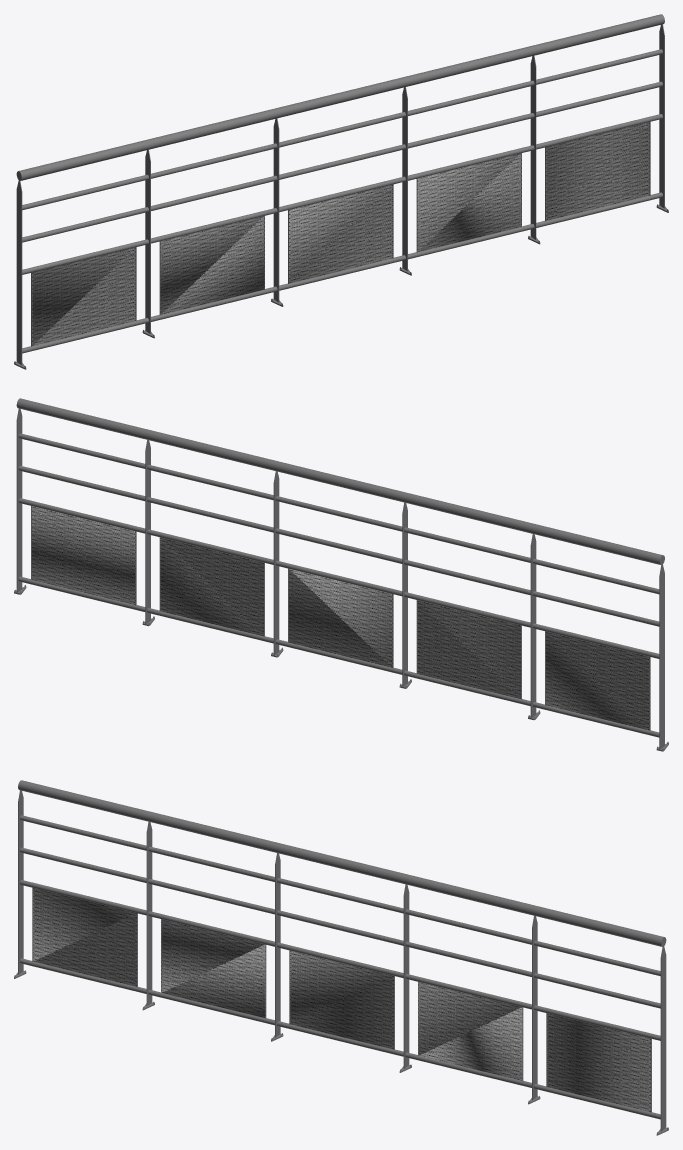
3 renders of one model, top to bottom at view 1: azimuth 30°, elevation 25°; view 2: azimuth 150°, elevation 25°; view 3: azimuth 330°, elevation 25°, orthographic.
Visible parts, largest first — view 1: Barrière Balcon SH3D; view 2: Barrière Balcon SH3D; view 3: Barrière Balcon SH3D.
Part boxes in pixels (left/top/right/bottom): Barrière Balcon SH3D: left=14, top=14, right=668, bottom=369; Barrière Balcon SH3D: left=14, top=398, right=668, bottom=751; Barrière Balcon SH3D: left=14, top=780, right=668, bottom=1135.
Size of the model in its own units: 22.99 by 6.54 by 0.5625.
Materials: 2 (1 with a texture image).
